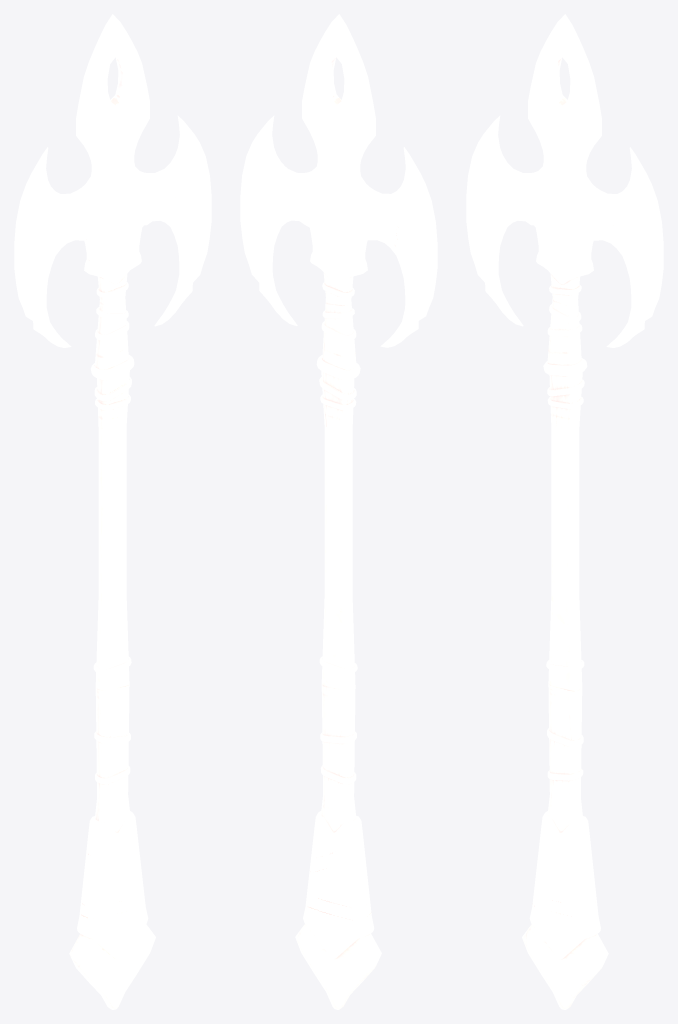
The model's file is Long_Ax_1.gltf.
3 views of the same model, side by side, from view 1: azimuth 30°, elevation 25°; view 2: azimuth 150°, elevation 25°; view 3: azimuth 330°, elevation 25° (orthographic).
Visible parts, largest first — view 1: Long_Ax_1.001; view 2: Long_Ax_1.001; view 3: Long_Ax_1.001.
Boxes of the visible parts, x1,y1,x2,y2 form: Long_Ax_1.001: [14, 14, 211, 1009]; Long_Ax_1.001: [240, 14, 437, 1009]; Long_Ax_1.001: [466, 14, 663, 1009].
Bounding box in the file's own units: 0.2801 × 1.35 × 0.0371.
1 material, 1 textured.
